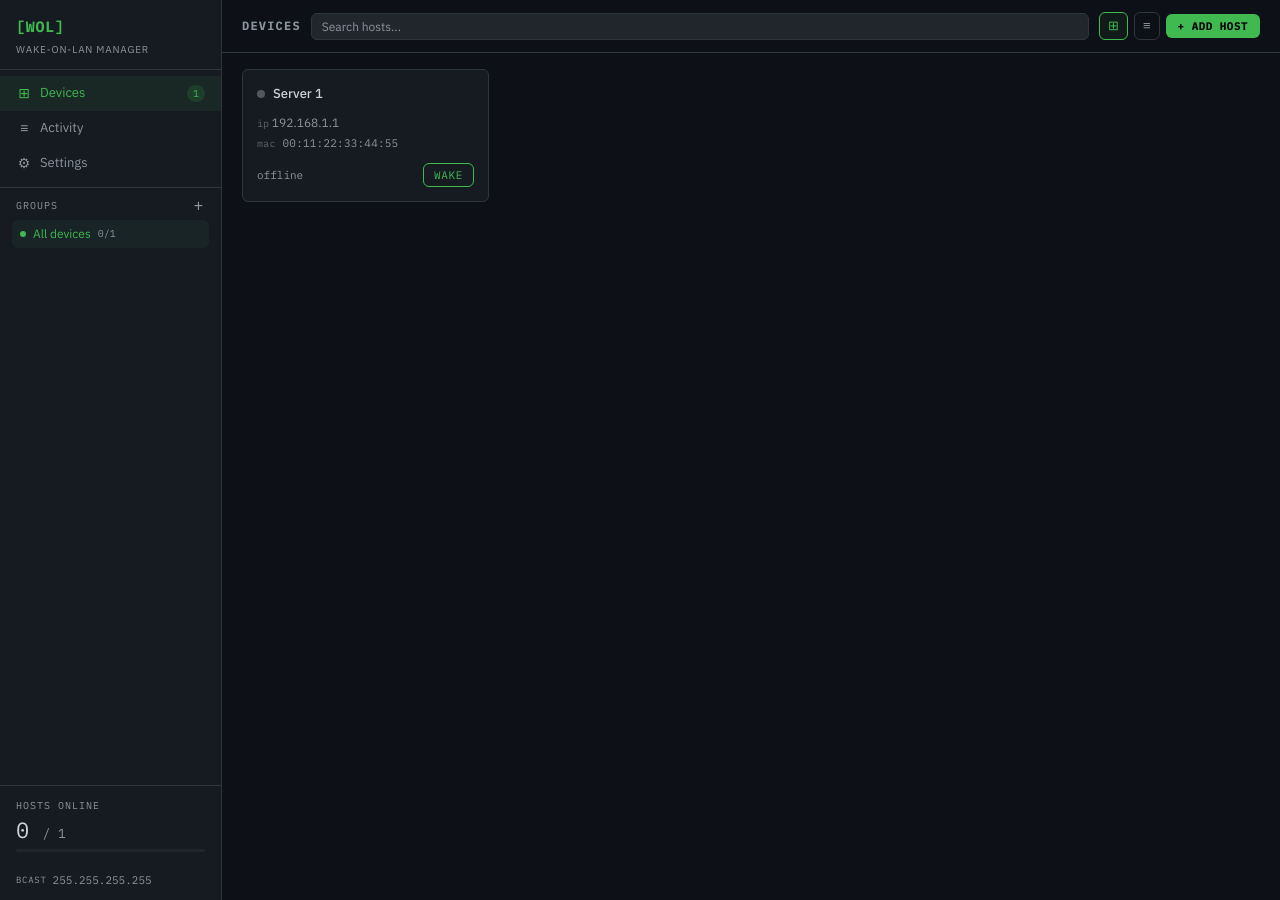
Test: App › ping › PING button appears in drawer only when device has IP
Click the text "Server 1".
click(298, 94)  # box [273,85,323,102]
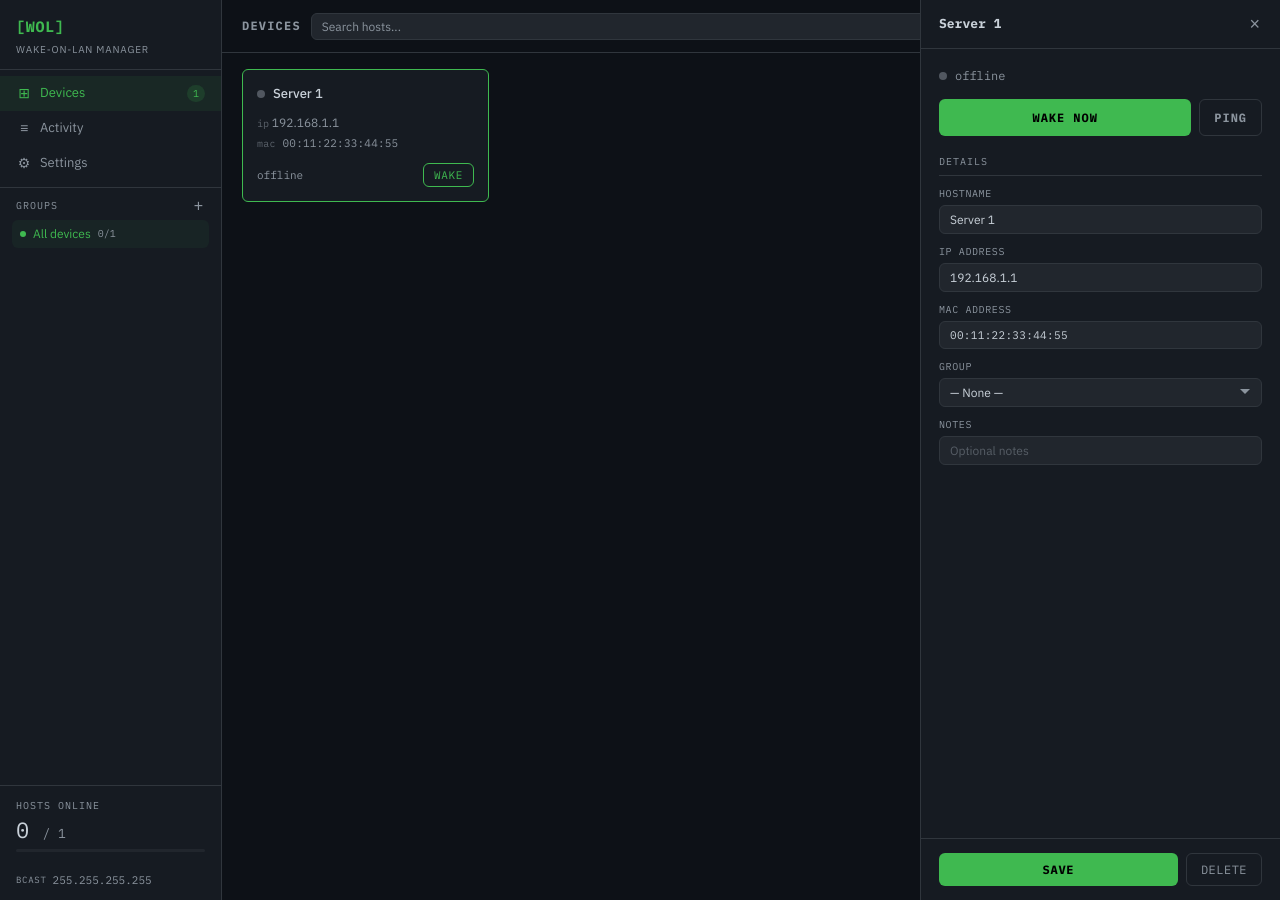
Expected: the button "PING" is shown, [1199,98,1262,136]
